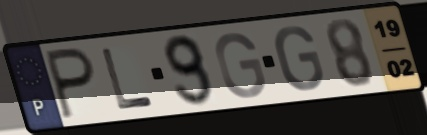8: (324, 16, 377, 90)
9: (160, 32, 218, 110)
G: (212, 30, 269, 101), (272, 24, 327, 94)
L: (98, 46, 157, 112)
P: (42, 45, 98, 122)
